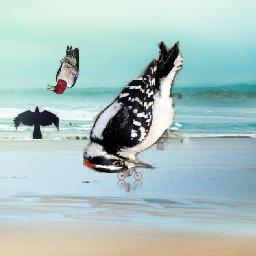Crow: (13, 107, 59, 140)
Woodpecker: (83, 41, 183, 173), (46, 44, 81, 94)
